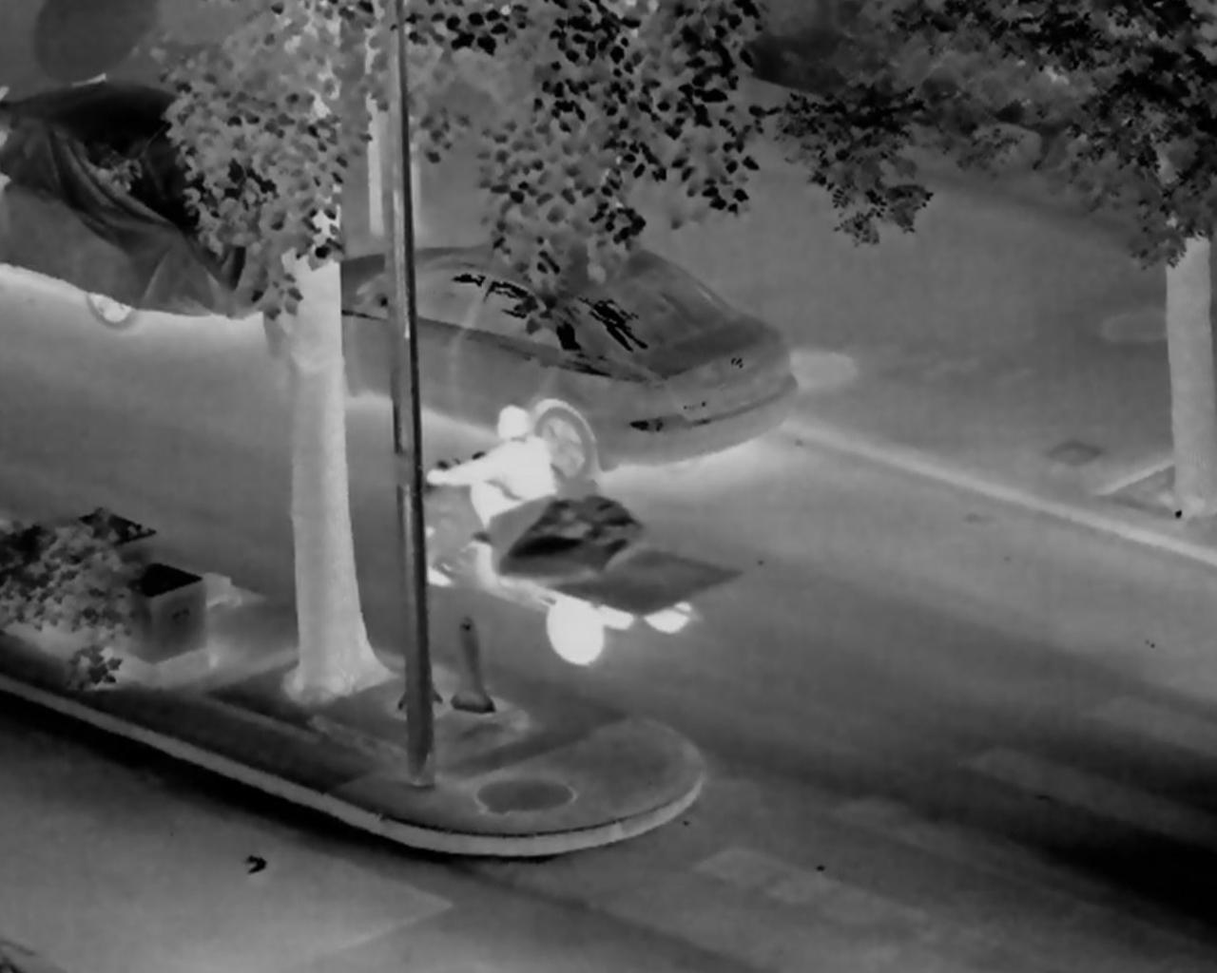person: (424, 407, 559, 563)
